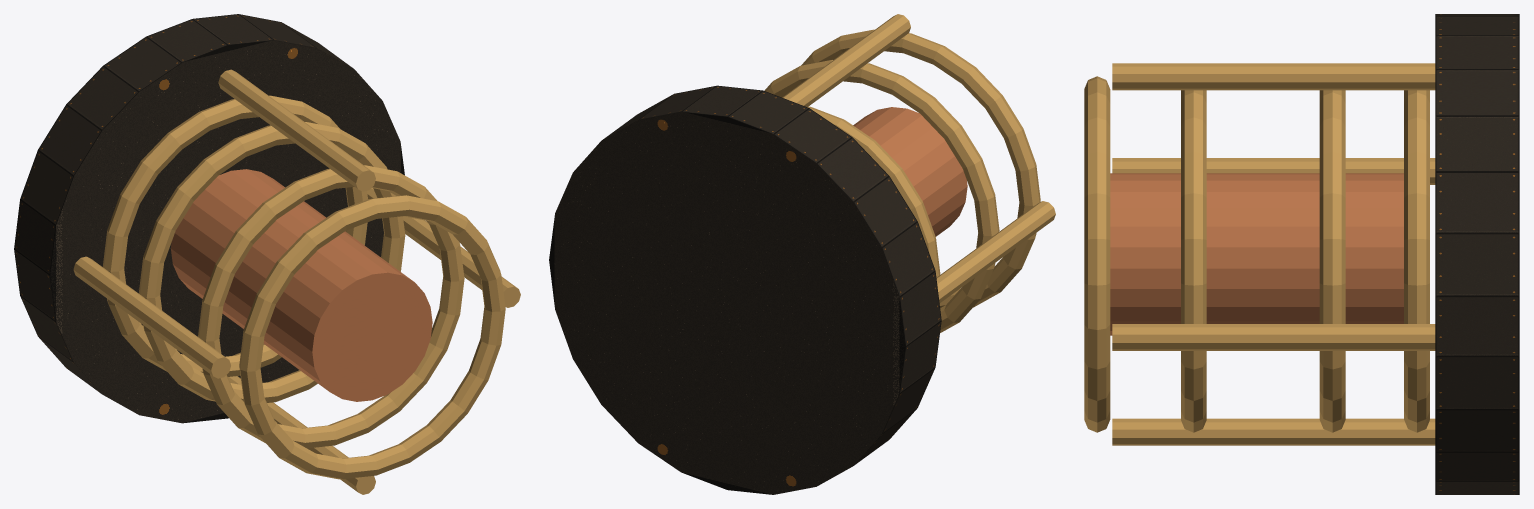
Rendered from reactor-high.glb.
3 renders of one model, left to right at view 1: azimuth 30°, elevation 25°; view 2: azimuth 150°, elevation 25°; view 3: azimuth 270°, elevation 25°, orthographic. The views are drawn at different scales.
Visible parts, largest first — view 1: reactor-root.002 / Riveted iron.012, reactor-root.002 / Machined brass.012, reactor-root.002 / Copper feed lines.012; view 2: reactor-root.002 / Riveted iron.012, reactor-root.002 / Machined brass.012, reactor-root.002 / Copper feed lines.012; view 3: reactor-root.002 / Machined brass.012, reactor-root.002 / Riveted iron.012, reactor-root.002 / Copper feed lines.012.
Boxes of the visible parts, <box> form: reactor-root.002 / Riveted iron.012: <box>14,14,404,423</box>; reactor-root.002 / Machined brass.012: <box>73,69,520,494</box>; reactor-root.002 / Copper feed lines.012: <box>170,169,432,401</box>; reactor-root.002 / Riveted iron.012: <box>549,85,941,494</box>; reactor-root.002 / Machined brass.012: <box>764,14,1055,332</box>; reactor-root.002 / Copper feed lines.012: <box>853,107,967,236</box>; reactor-root.002 / Machined brass.012: <box>1084,63,1435,445</box>; reactor-root.002 / Riveted iron.012: <box>1435,14,1519,494</box>; reactor-root.002 / Copper feed lines.012: <box>1110,173,1403,335</box>.
Size of the model in its own units: 1.6 by 1.6 by 1.44.
Materials: 3 (1 with a texture image).
